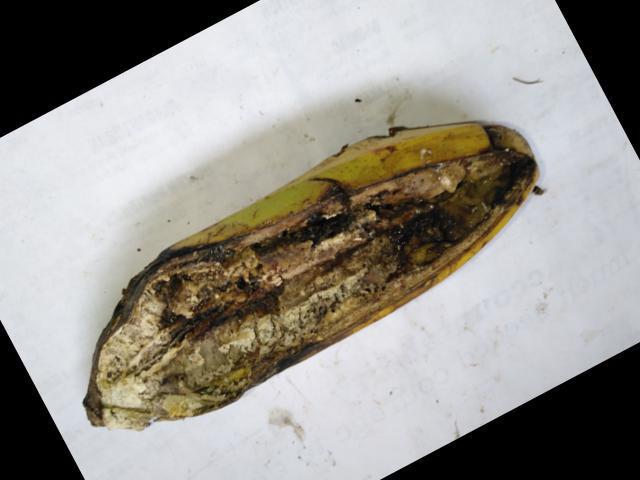rotten: (89, 129, 538, 445)
